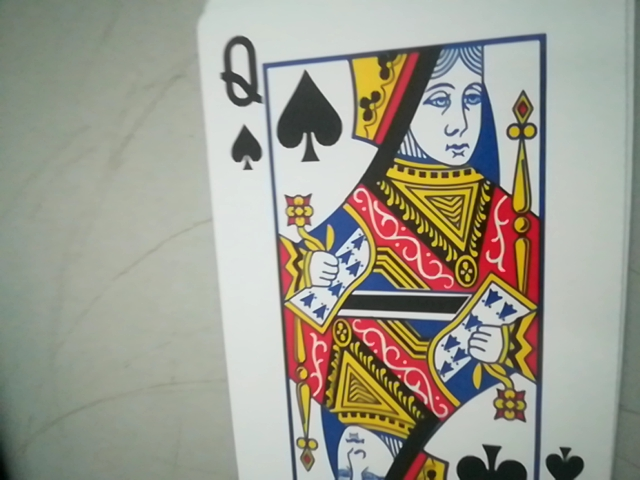ht q: (205, 23, 270, 177)
